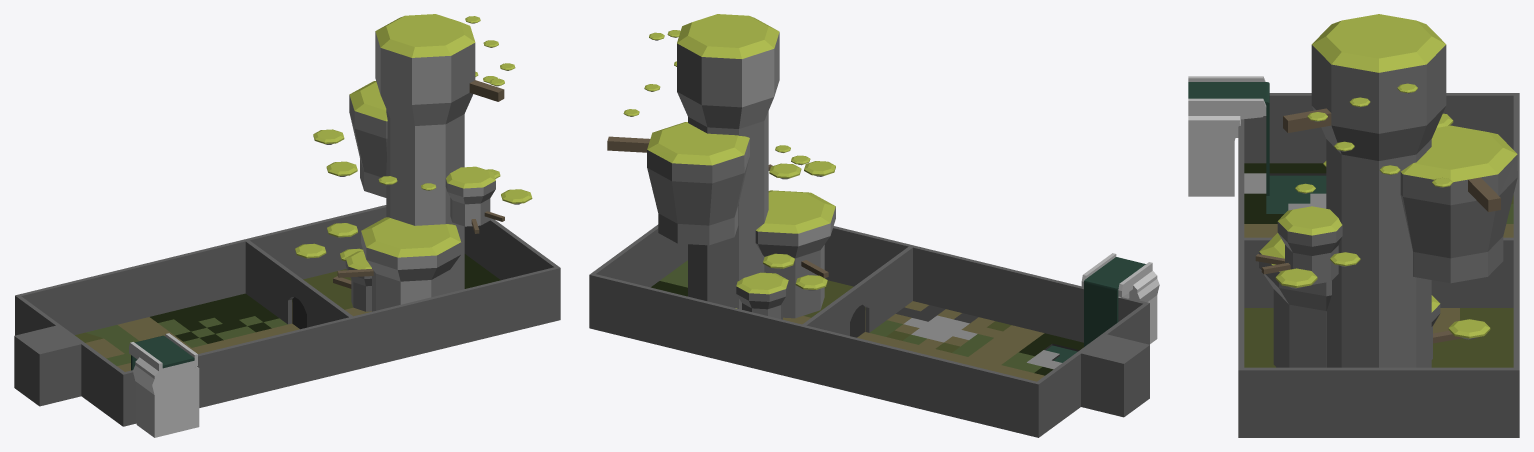
The model's file is GroundworkForProject.fbx.
The picture shows the model from 3 angles, left to right: view 1: azimuth 30°, elevation 25°; view 2: azimuth 150°, elevation 25°; view 3: azimuth 270°, elevation 25°; orthographic projection. The views are drawn at different scales.
Visible parts, largest first — view 1: CliffLevel5, SwordRoomRightWall, LeftWall, RightWall, CliffLevel2, MainAreaGround, WaterfallStructure, BackWall, SwordRoomLeftWall, SwordRoomBackWall, CliffLevel4, FrontWall (+7 smaller); view 2: CliffLevel5, LeftWall, SwordRoomLeftWall, CliffLevel4, RightWall, MainAreaGround, CliffLevel2, BackWall, FrontWall, SwordRoomBackWall, SwordRoomRightWall, WaterfallWater (+6 smaller); view 3: CliffLevel5, SwordRoomBackWall, CliffLevel4, FrontWall, WaterfallStructure, SwordRoomGround, CliffLevel2, BackWall, CliffLevel3, MainAreaGround, WaterfallWater, WaterSurface (+8 smaller).
Part boxes in pixels (x1,y1,x2,y2): CliffLevel5: (375,14,504,292); SwordRoomRightWall: (354,267,556,369); LeftWall: (15,240,245,335); RightWall: (121,317,351,426); CliffLevel2: (337,217,461,311); MainAreaGround: (75,293,295,371); WaterfallStructure: (129,333,199,437); BackWall: (243,239,355,370); SwordRoomLeftWall: (247,205,386,279); SwordRoomBackWall: (464,218,560,320); CliffLevel4: (349,81,387,197); FrontWall: (17,296,124,424); CliffLevel5: (677,14,779,309); LeftWall: (804,325,1040,437); SwordRoomLeftWall: (593,274,801,379); CliffLevel4: (607,122,749,245); RightWall: (913,246,1149,344); MainAreaGround: (861,301,1083,381); CliffLevel2: (755,190,835,318); BackWall: (800,245,914,380); FrontWall: (1037,304,1147,435); SwordRoomBackWall: (589,224,687,328); SwordRoomRightWall: (824,226,910,286); WaterfallWater: (1084,257,1145,346); CliffLevel5: (1283,14,1446,367); SwordRoomBackWall: (1238,367,1519,437); CliffLevel4: (1400,125,1517,283); FrontWall: (1244,93,1513,163); WaterfallStructure: (1188,76,1266,196); SwordRoomGround: (1244,308,1513,367); CliffLevel2: (1259,233,1331,367); BackWall: (1238,237,1519,307); CliffLevel3: (1255,206,1342,284); MainAreaGround: (1244,163,1513,237); WaterfallWater: (1188,82,1269,195); WaterSurface: (1266,175,1326,213).
Bounding box in the file's own units: 5341 × 2956 × 2462.
